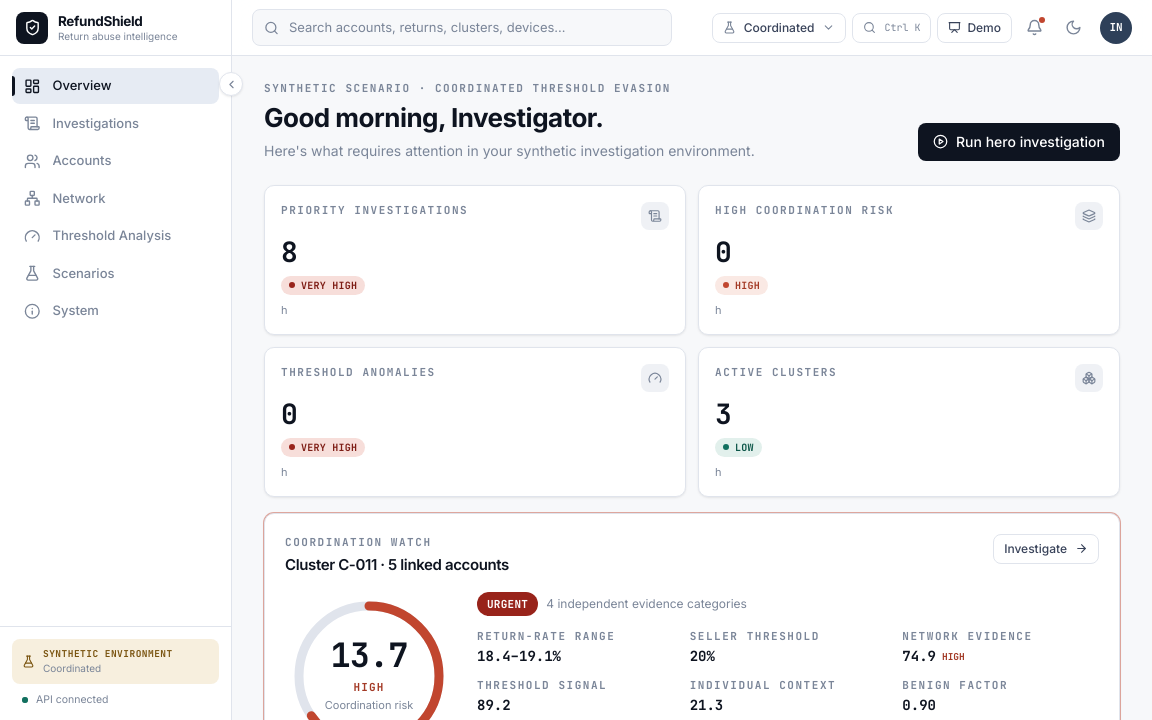
it: Shell › searches accounts globally
Type "ACC-1032" into the dropdown named "global search" at [462, 28], box [252,9,672,46]
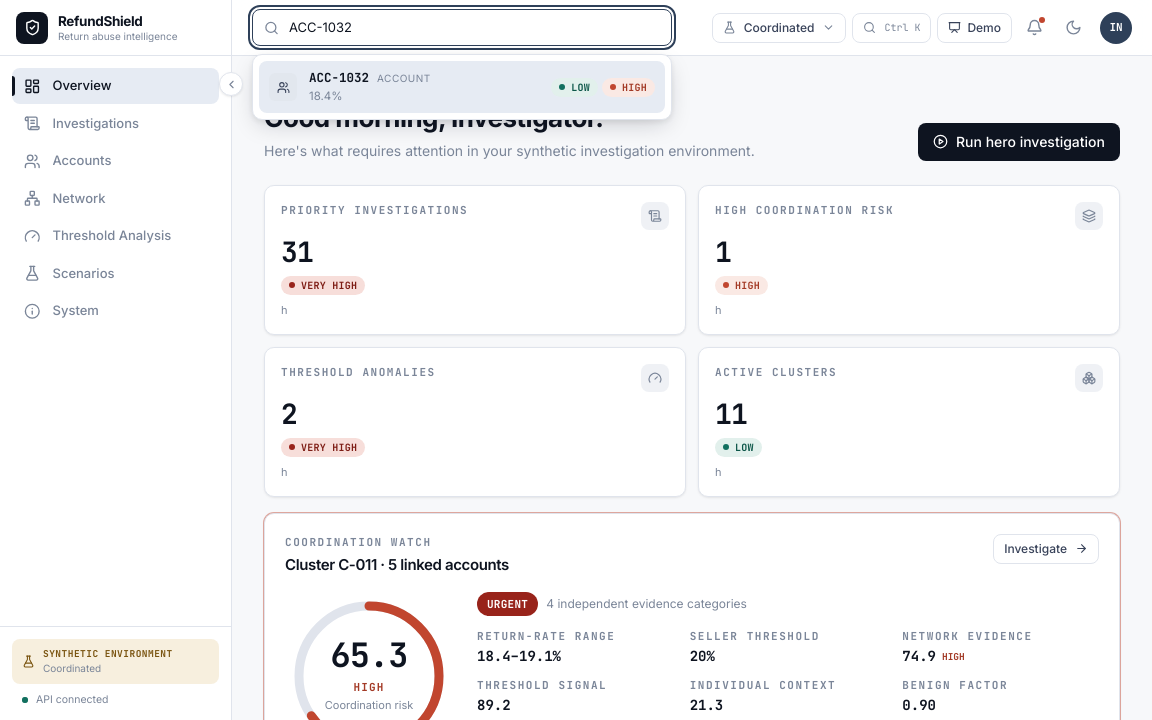
Expected: the option "ACC-1032 account 18.4% LOW HIGH" is shown, [259,61,665,113]
